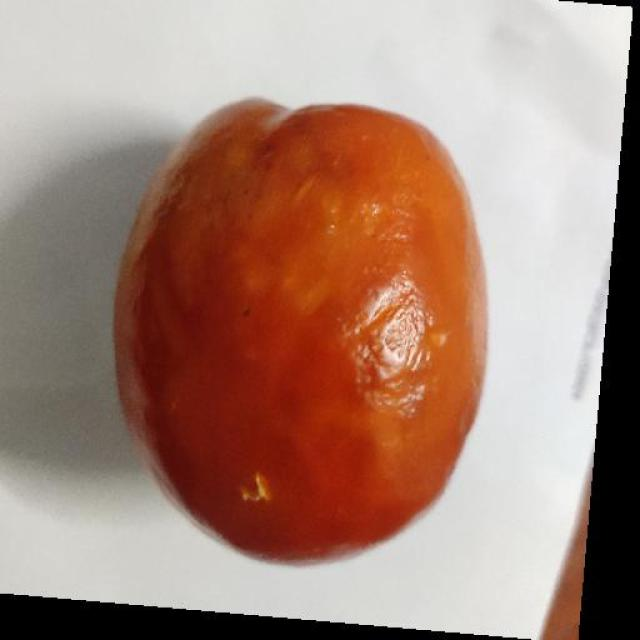Stale_tomato: (51, 89, 547, 586)
